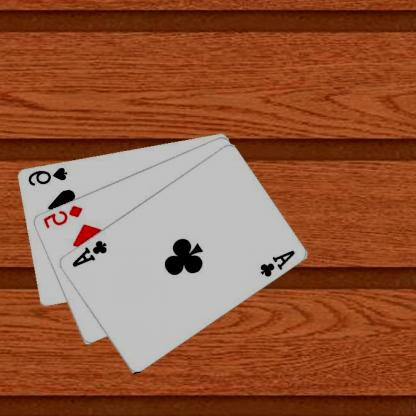5D: (42, 203, 85, 230)
6S: (27, 165, 71, 187)
AC: (70, 237, 110, 269), (258, 247, 298, 278)
